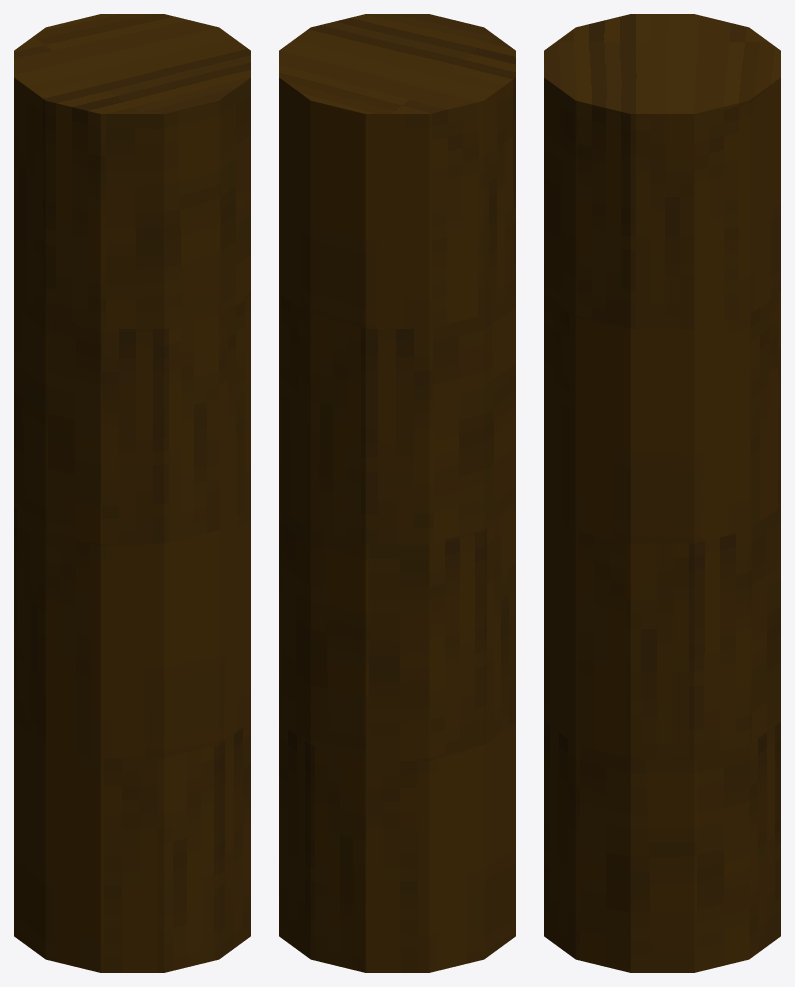
File: WallSegment.obj
3 views of the same model, side by side, from view 1: azimuth 30°, elevation 25°; view 2: azimuth 150°, elevation 25°; view 3: azimuth 270°, elevation 25° (orthographic).
Visible parts, largest first — view 1: cylinder; view 2: cylinder; view 3: cylinder.
Part boxes in pixels (x1,y1,x2,y2): cylinder: [14, 14, 250, 972]; cylinder: [279, 14, 515, 972]; cylinder: [544, 14, 780, 972].
Size of the model in its own units: 1 by 4 by 1.
